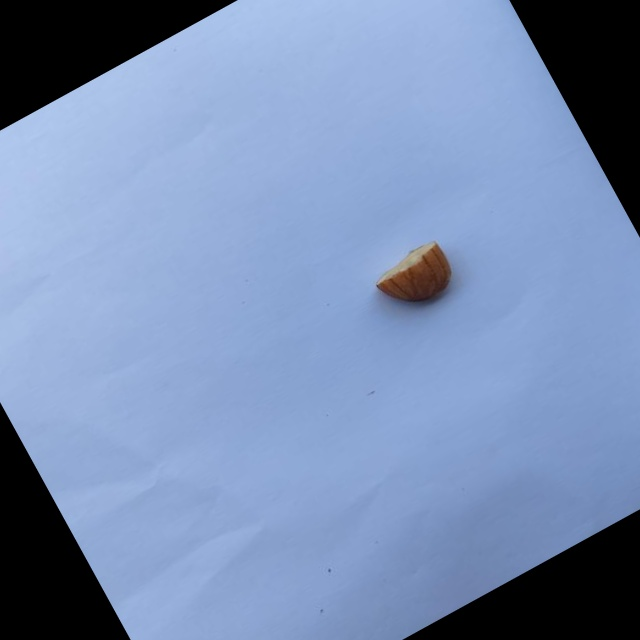grade4: (360, 231, 470, 329)
